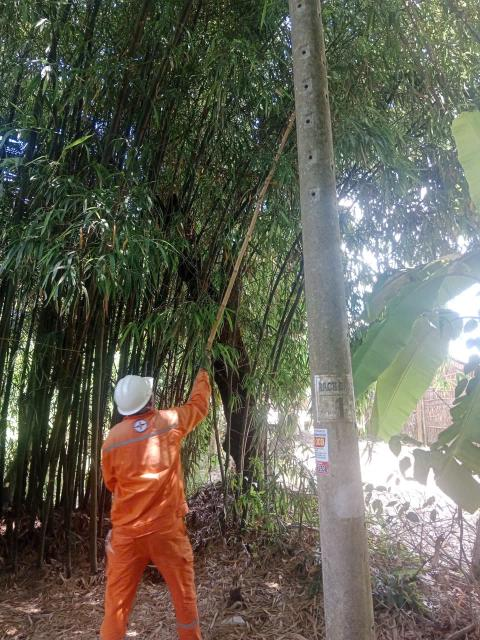helmet: (112, 362, 163, 428)
